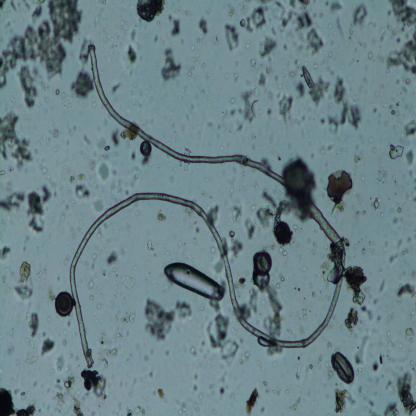Air bubble: (160, 262, 229, 303), (328, 166, 354, 204), (330, 353, 358, 385), (54, 292, 74, 317)
Background material: (0, 0, 83, 94), (0, 109, 38, 168), (141, 295, 179, 346), (204, 315, 242, 364), (330, 78, 362, 132), (382, 26, 416, 74), (25, 184, 56, 234), (51, 343, 73, 407), (286, 158, 318, 200), (241, 47, 273, 85), (345, 262, 370, 308), (158, 46, 186, 84), (91, 127, 124, 159), (274, 2, 314, 27), (395, 369, 416, 415), (234, 5, 268, 33), (265, 284, 284, 334), (77, 367, 107, 398), (326, 385, 356, 415), (387, 0, 416, 30), (133, 0, 168, 23), (384, 87, 406, 119), (0, 186, 26, 213), (329, 0, 347, 38), (276, 92, 298, 121), (365, 296, 383, 331), (354, 331, 371, 367), (218, 358, 234, 393), (307, 30, 327, 57), (98, 340, 120, 364), (226, 231, 245, 258), (318, 260, 340, 283), (256, 35, 277, 58), (342, 142, 366, 162), (274, 220, 292, 246), (223, 23, 240, 50), (256, 205, 275, 229), (122, 312, 144, 332), (142, 234, 160, 258), (389, 202, 406, 227), (172, 298, 192, 319), (243, 388, 260, 412), (70, 180, 91, 199), (265, 344, 286, 363), (26, 310, 40, 338), (343, 309, 360, 332), (353, 5, 369, 29), (156, 380, 171, 405), (124, 43, 140, 66), (69, 393, 85, 416), (378, 162, 392, 188), (292, 352, 305, 380), (12, 285, 36, 300), (195, 14, 210, 38), (123, 399, 147, 414), (380, 398, 400, 416), (16, 262, 34, 282), (41, 336, 57, 358), (394, 282, 416, 298), (120, 274, 139, 292), (354, 194, 365, 225), (364, 46, 381, 66), (186, 54, 199, 80), (97, 163, 113, 184), (108, 78, 126, 96), (261, 186, 277, 206), (386, 144, 406, 160), (138, 139, 152, 160), (402, 118, 416, 139), (245, 216, 256, 240), (370, 354, 384, 372), (230, 206, 244, 224), (170, 18, 184, 36), (373, 102, 383, 126), (206, 205, 220, 222), (404, 145, 414, 168), (377, 275, 389, 293), (105, 253, 120, 267), (67, 170, 83, 182), (0, 246, 12, 260), (331, 200, 342, 215), (17, 406, 37, 414), (154, 213, 166, 226), (86, 277, 96, 292), (280, 244, 289, 259), (404, 326, 414, 338), (389, 253, 398, 265), (373, 199, 380, 213), (348, 22, 353, 38), (278, 273, 285, 282), (230, 109, 236, 118), (55, 126, 61, 135)
Diatom: (239, 92, 259, 124), (0, 384, 18, 414), (301, 63, 317, 93), (253, 252, 273, 275)
Microfibre: (69, 48, 353, 368)
